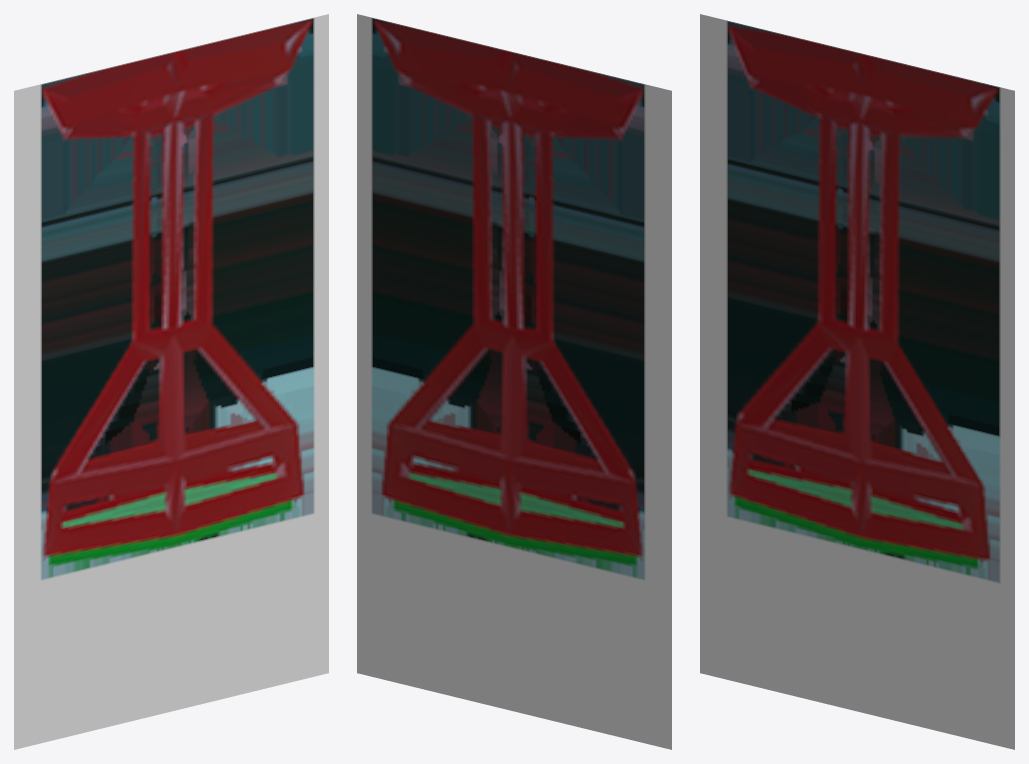
File: chair_reflect.glb
The picture shows the model from 3 angles, left to right: view 1: azimuth 30°, elevation 25°; view 2: azimuth 150°, elevation 25°; view 3: azimuth 330°, elevation 25°; orthographic projection.
Visible parts, largest first — view 1: chair_reflect; view 2: chair_reflect; view 3: chair_reflect.
Part boxes in pixels (left/top/right/bottom): chair_reflect: left=14, top=14, right=328, bottom=749; chair_reflect: left=357, top=14, right=671, bottom=749; chair_reflect: left=700, top=14, right=1014, bottom=749.
Bounding box in the file's own units: 0.6128 × 1.23 × 1.83e-07.
Materials: 1 (1 with a texture image).
